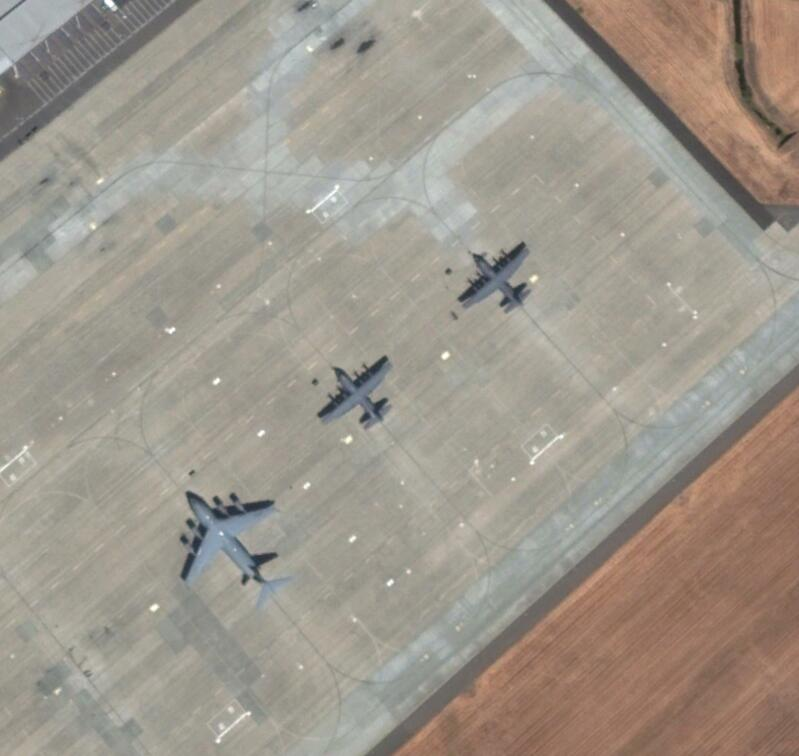A2: (318, 362, 399, 431), (460, 245, 534, 316)
A3: (179, 491, 292, 603)
